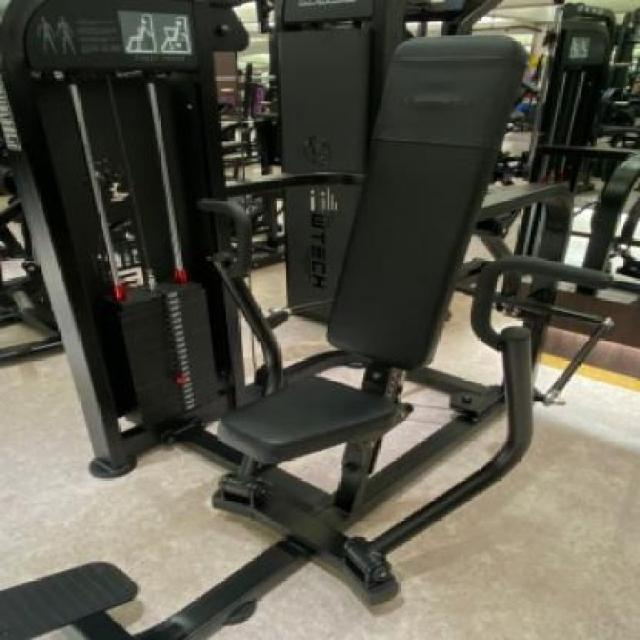Chest Press machine: (9, 0, 616, 640)
